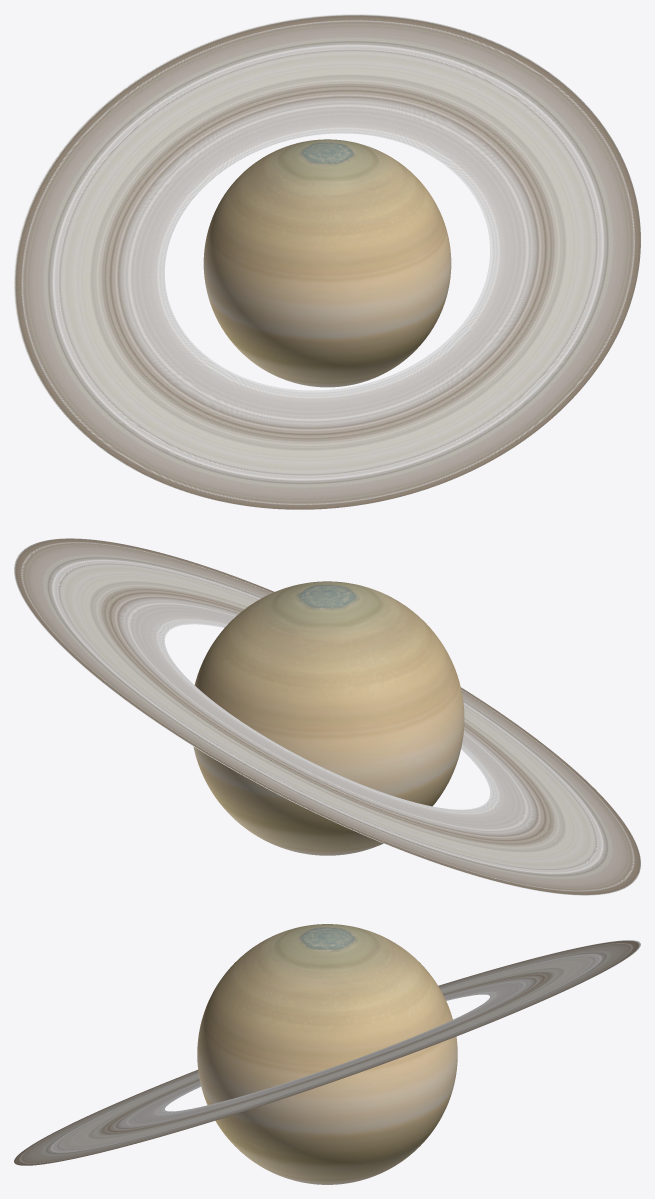
File: saturn.fbx
3 renders of one model, top to bottom at view 1: azimuth 30°, elevation 25°; view 2: azimuth 150°, elevation 25°; view 3: azimuth 270°, elevation 25°, orthographic. The views are drawn at different scales.
Visible parts, largest first — view 1: Sphere; view 2: Sphere; view 3: Sphere.
Boxes of the visible parts, x1=… form: Sphere: x1=14, y1=14, x2=640, y2=509; Sphere: x1=14, y1=538, x2=640, y2=895; Sphere: x1=14, y1=924, x2=640, y2=1184.
Bounding box in the file's own units: 240 × 115 × 239.
